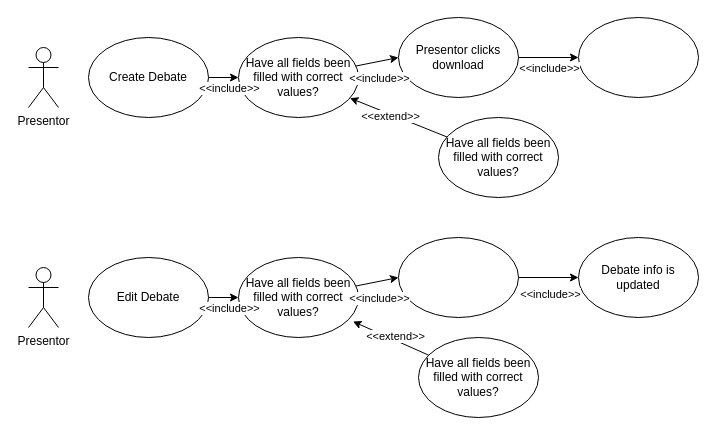
This 716x435 diagram has some shape labels left out. The shapes that lost their labels are listed below. From the top down, each one's centre as x and y in pixels, then its label:
At pixel 638 57: "Json file is downloaded".
At pixel 458 277: "Presentor clicks overwrite".
